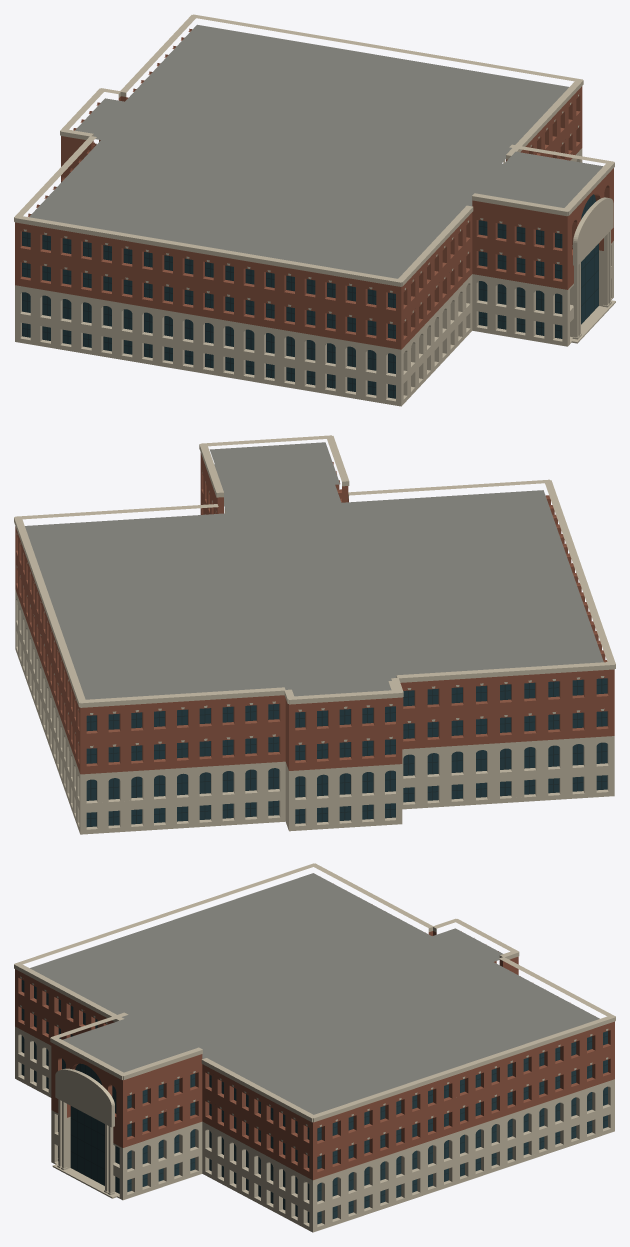
The model's file is north-charleston-city-hall-near.glb.
The picture shows the model from 3 angles, top to bottom: view 1: azimuth 30°, elevation 25°; view 2: azimuth 150°, elevation 25°; view 3: azimuth 270°, elevation 25°; orthographic projection. The views are drawn at different scales.
Visible parts, largest first — view 1: north-charleston-city-hall-0-roof, north-charleston-city-hall-0-stone, north-charleston-city-hall-0-brick, north-charleston-city-hall-0-glass, north-charleston-city-hall-0-frame; view 2: north-charleston-city-hall-0-roof, north-charleston-city-hall-0-stone, north-charleston-city-hall-0-brick, north-charleston-city-hall-0-glass, north-charleston-city-hall-0-frame; view 3: north-charleston-city-hall-0-roof, north-charleston-city-hall-0-stone, north-charleston-city-hall-0-brick, north-charleston-city-hall-0-glass, north-charleston-city-hall-0-frame.
Part boxes in pixels (x1,y1,x2,y2): north-charleston-city-hall-0-roof: (29, 24, 602, 278); north-charleston-city-hall-0-stone: (14, 14, 615, 406); north-charleston-city-hall-0-brick: (15, 28, 613, 349); north-charleston-city-hall-0-glass: (22, 194, 598, 398); north-charleston-city-hall-0-frame: (22, 195, 598, 398); north-charleston-city-hall-0-roof: (25, 442, 603, 699); north-charleston-city-hall-0-stone: (14, 435, 615, 834); north-charleston-city-hall-0-brick: (15, 453, 614, 774); north-charleston-city-hall-0-glass: (86, 678, 607, 826); north-charleston-city-hall-0-frame: (86, 678, 607, 826); north-charleston-city-hall-0-roof: (30, 873, 599, 1114); north-charleston-city-hall-0-stone: (14, 863, 615, 1232); north-charleston-city-hall-0-brick: (15, 883, 614, 1180); north-charleston-city-hall-0-glass: (22, 980, 607, 1223); north-charleston-city-hall-0-frame: (21, 980, 607, 1224).
Bounding box in the file's own units: 98.48 × 22.4 × 98.16.
